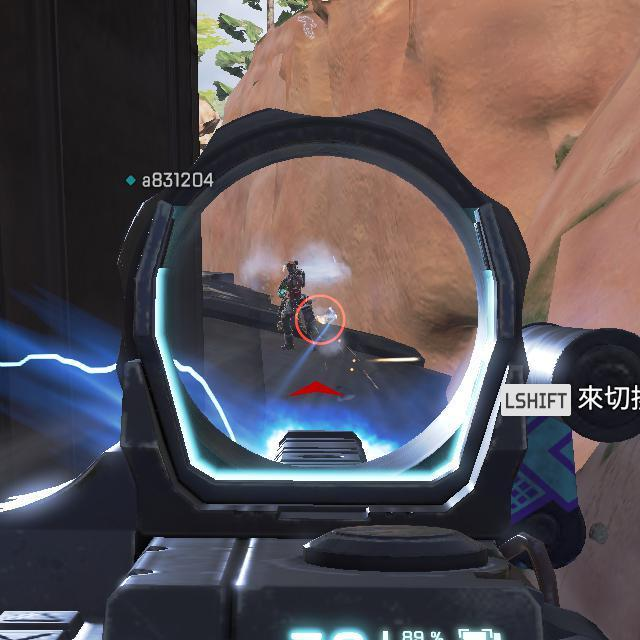avatar: (274, 258, 316, 353)
